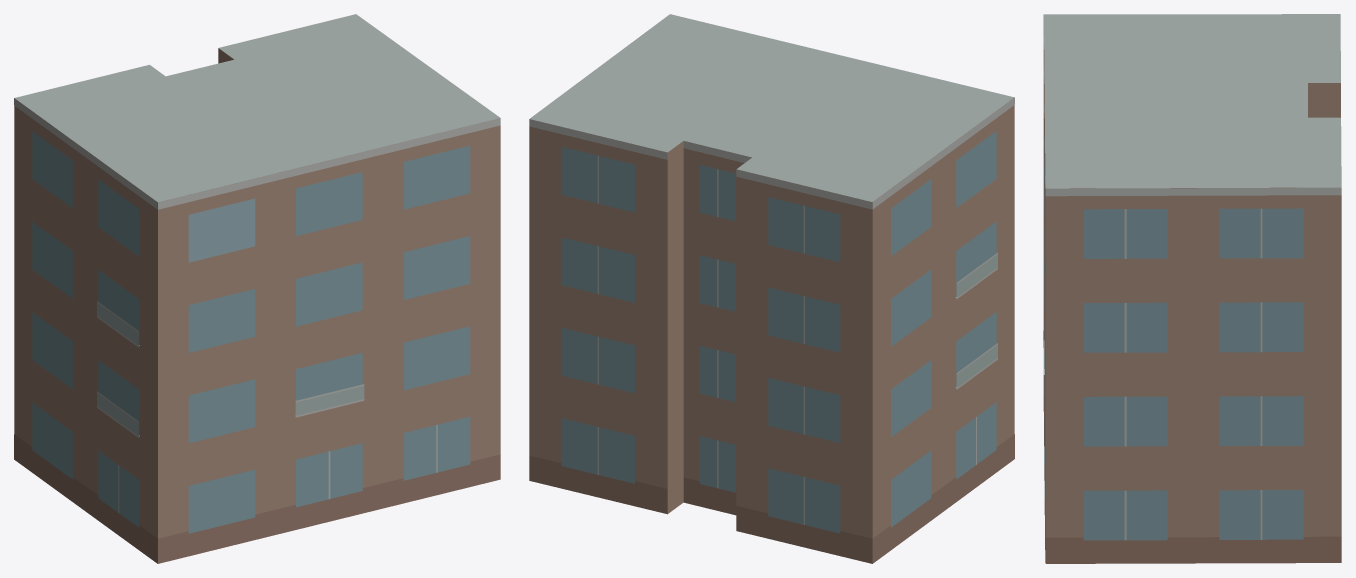
Rendered from survey-upis-32987136.glb.
3 views of the same model, side by side, from view 1: azimuth 30°, elevation 25°; view 2: azimuth 150°, elevation 25°; view 3: azimuth 270°, elevation 25° (orthographic). The views are drawn at different scales.
Parts seen in each view (by area): view 1: survey-upis-32987136.tmp; view 2: survey-upis-32987136.tmp; view 3: survey-upis-32987136.tmp.
Boxes of the visible parts, box(x1,y1,x2,y2) form: survey-upis-32987136.tmp: box(14, 14, 500, 563); survey-upis-32987136.tmp: box(529, 14, 1014, 563); survey-upis-32987136.tmp: box(1043, 14, 1341, 563).
Bounding box in the file's own units: 11.89 × 11.9 × 8.59.
